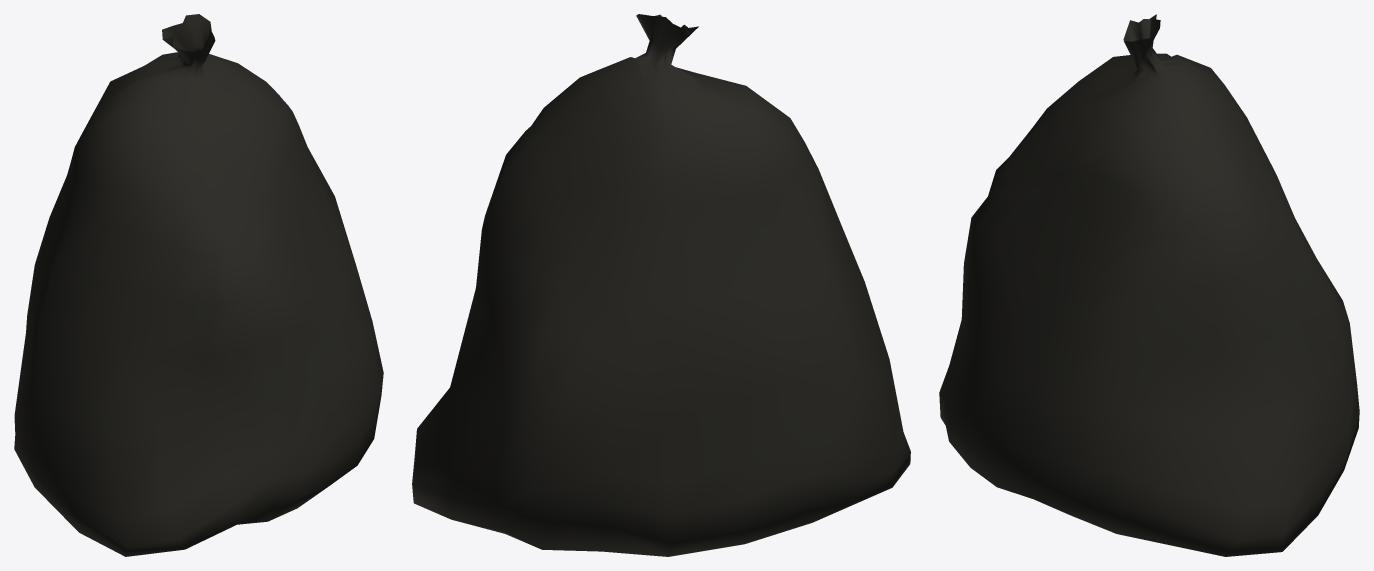
File: Trash_bag.fbx
The picture shows the model from 3 angles, left to right: view 1: azimuth 30°, elevation 25°; view 2: azimuth 150°, elevation 25°; view 3: azimuth 270°, elevation 25°; orthographic projection. The views are drawn at different scales.
Visible parts, largest first — view 1: Plastic_Bag; view 2: Plastic_Bag; view 3: Plastic_Bag.
Boxes of the visible parts, x1,y1,x2,y2 form: Plastic_Bag: (14, 14, 383, 556); Plastic_Bag: (412, 14, 910, 556); Plastic_Bag: (939, 14, 1359, 556).
Bounding box in the file's own units: 68.13 × 82.33 × 67.95.
